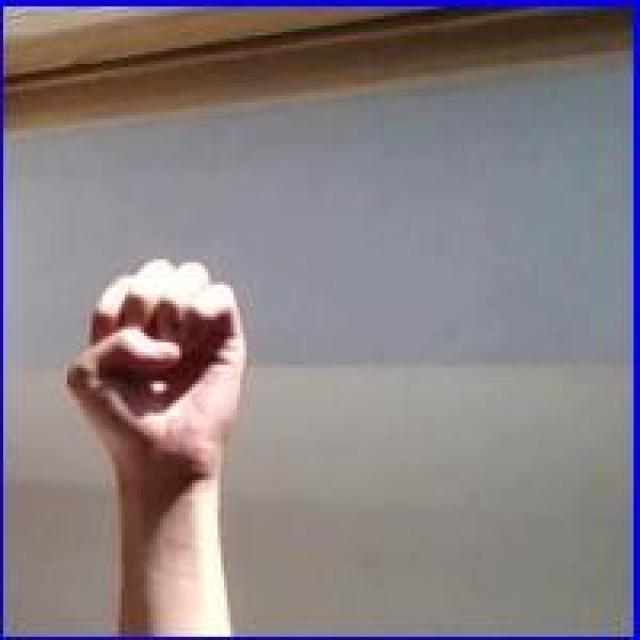E: (58, 253, 252, 480)
